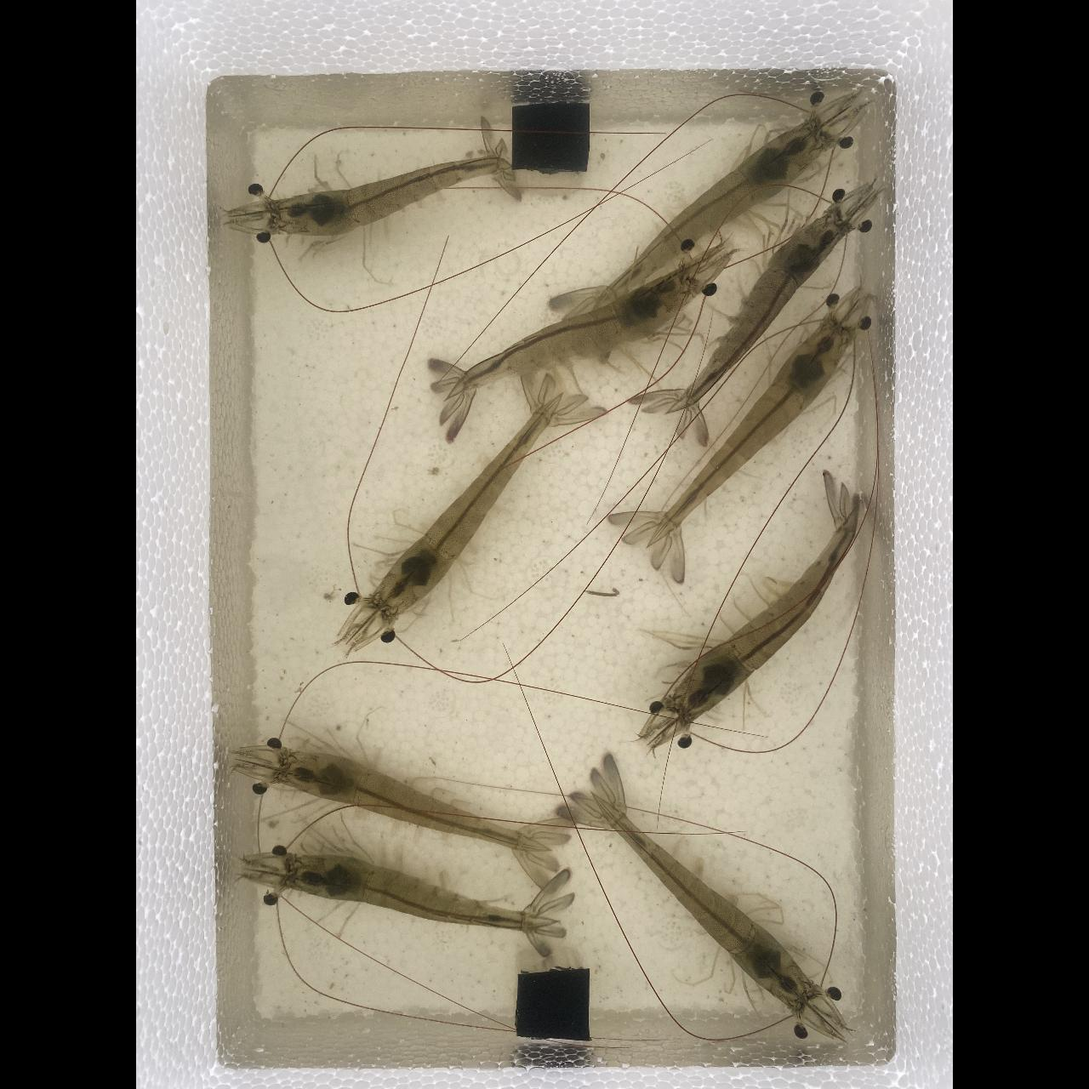box: (510, 100, 590, 170), (516, 968, 589, 1040)
top_shrimp: (578, 123, 821, 322), (596, 796, 808, 1006), (650, 325, 846, 541), (374, 395, 556, 611), (674, 507, 859, 718), (674, 216, 844, 412), (451, 274, 691, 393), (277, 752, 548, 847), (277, 155, 509, 237), (288, 856, 551, 927)
